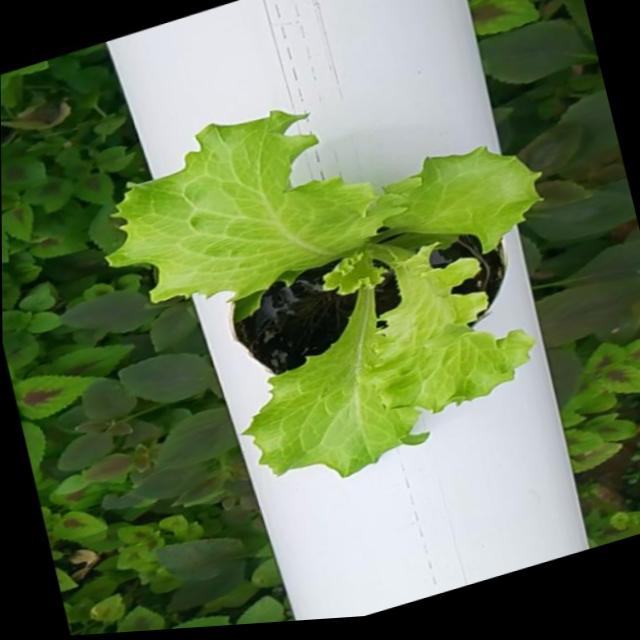Baby: (113, 109, 545, 476)
